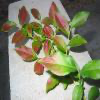Blueberry leaf: (38, 52, 80, 78), (69, 10, 91, 31), (54, 10, 70, 36), (13, 46, 39, 61), (49, 34, 68, 52), (43, 74, 61, 93), (67, 34, 89, 49), (48, 0, 58, 30), (10, 30, 28, 44), (42, 21, 55, 40), (0, 20, 18, 33), (71, 83, 84, 99), (17, 5, 25, 27), (29, 8, 40, 24), (32, 37, 42, 54)
